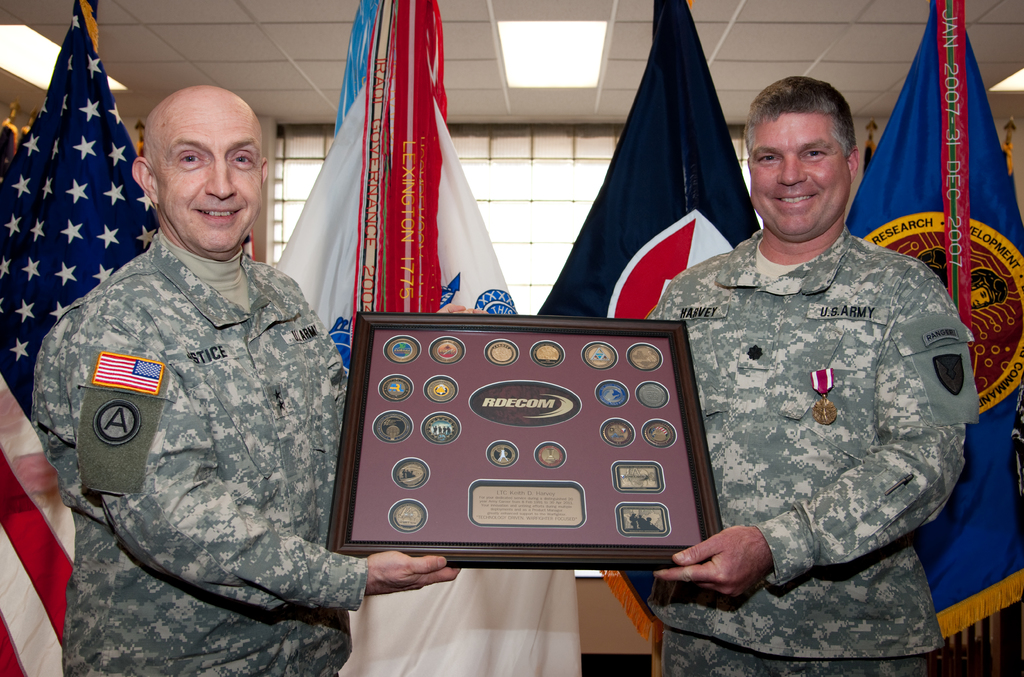Human-face: (157, 114, 258, 249), (753, 111, 851, 241)
